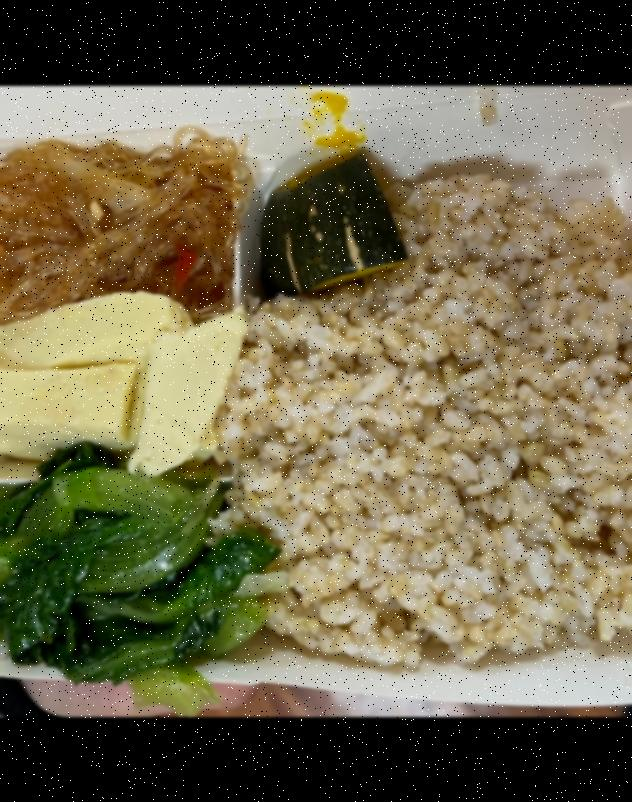box: (0, 103, 632, 716)
brown rice: (232, 168, 632, 660)
side dish: (0, 455, 262, 685), (0, 284, 235, 477), (0, 129, 234, 322), (250, 141, 408, 302)
